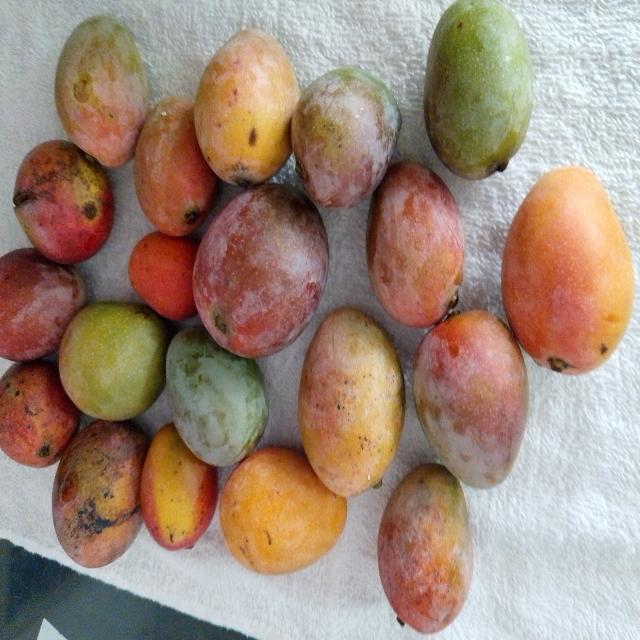mango: (502, 167, 633, 373), (192, 179, 336, 361), (409, 302, 530, 494), (298, 309, 404, 497), (424, 0, 532, 179), (364, 155, 468, 332), (195, 30, 299, 186), (378, 464, 473, 633), (220, 448, 346, 574), (292, 68, 401, 207), (57, 298, 176, 420), (55, 16, 148, 167), (8, 138, 116, 268), (167, 326, 267, 466), (53, 421, 148, 567), (131, 93, 212, 240), (0, 248, 93, 363), (141, 423, 217, 550), (0, 360, 77, 466)
